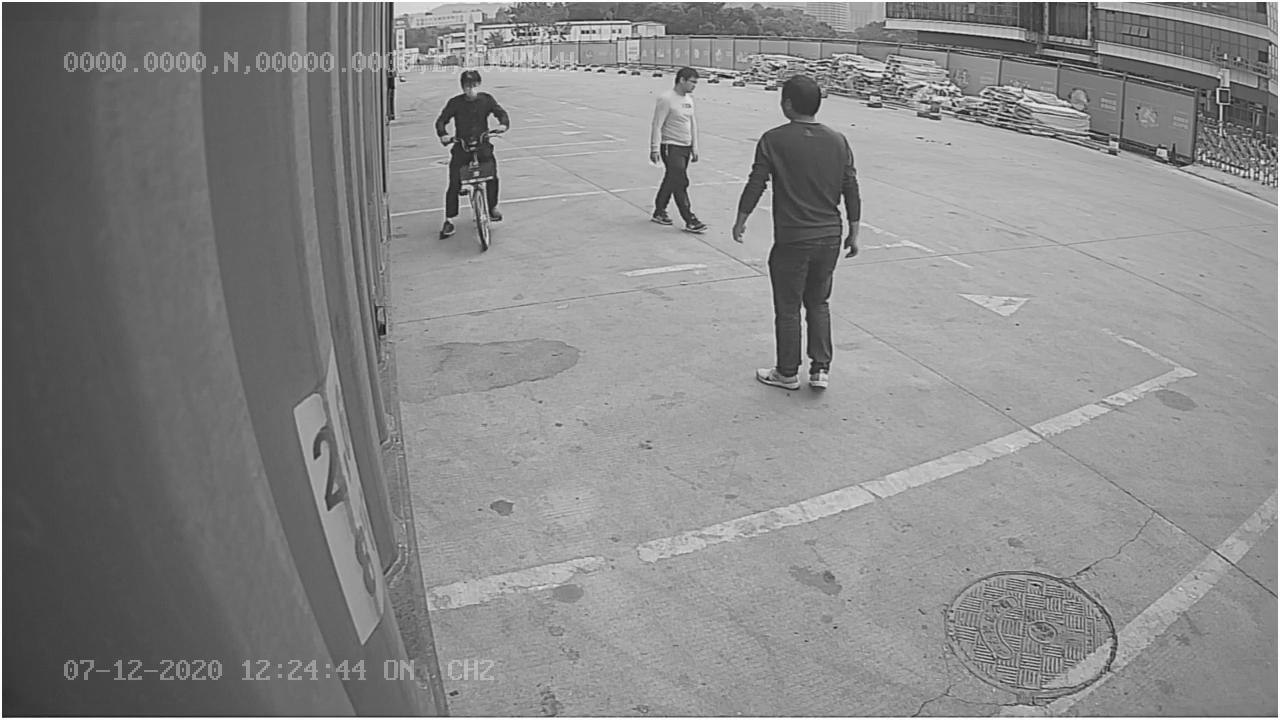person: (727, 73, 868, 397), (646, 65, 714, 232)
